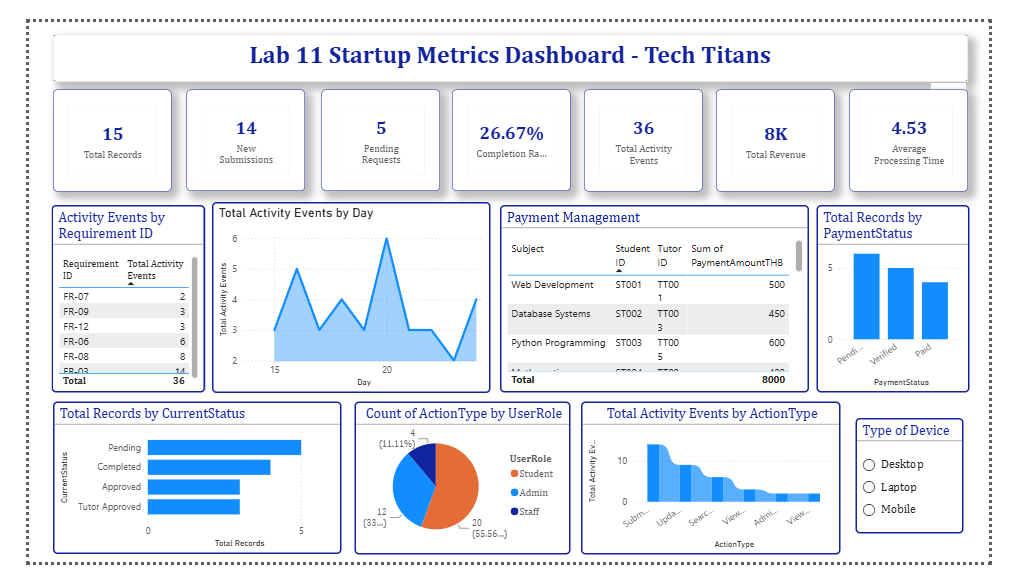

What the dashboard file says about the page in this screenshot:
{"tool":"powerbi","page":{"name":"Startup Metrics Dashboard","canvas":[1280,720],"ordinal":0},"visuals":[{"type":"textbox","box":[32,16,1220,64],"z":0},{"type":"cardVisual","fields":{"Data":["PrototypeRecords.Total Records"]},"box":[32.7,89.8,158,136],"z":1000},{"type":"cardVisual","fields":{"Data":["PrototypeRecords.New Submissions"]},"box":[210.7,89.3,158,135],"z":2000},{"type":"cardVisual","fields":{"Data":["PrototypeRecords.Pending Requests"]},"box":[390.7,89.3,158,135],"z":3000},{"type":"cardVisual","fields":{"Data":["PrototypeRecords.Completion Rate"]},"box":[564.7,89.3,158,135],"z":4000},{"type":"cardVisual","fields":{"Data":["PrototypeRecords.Total Activity Events"]},"box":[740.7,89.3,158,136],"z":5000},{"type":"cardVisual","fields":{"Data":["PrototypeRecords.Total Revenue"]},"box":[916.7,89.3,158,136],"z":6000},{"type":"cardVisual","fields":{"Data":["PrototypeRecords.Average Processing Time"]},"box":[1094.7,89.3,158,136],"z":7000},{"type":"clusteredBarChart","fields":{"Category":["PrototypeRecords.CurrentStatus"],"Y":["PrototypeRecords.Total Records"]},"box":[32.2,505.6,384.4,203.3],"z":8000},{"type":"clusteredColumnChart","fields":{"Category":["PrototypeRecords.PaymentStatus"],"Y":["PrototypeRecords.Total Records"]},"box":[1050,244,204,250],"z":9000},{"type":"ribbonChart","title":"Total Activity Events by ActionType","fields":{"Category":["ActivityLog.ActionType"],"Y":["PrototypeRecords.Total Activity Events"]},"box":[736,506,346,204],"z":10000},{"type":"pieChart","fields":{"Category":["ActivityLog.UserRole"],"Y":["CountNonNull(ActivityLog.ActionType)"]},"box":[434,506,288,204],"z":11000},{"type":"tableEx","title":"Activity Events by Requirement ID","fields":{"Values":["ActivityLog.RequirementID","PrototypeRecords.Total Activity Events"]},"box":[30,244.4,204.4,250],"z":12000},{"type":"stackedAreaChart","fields":{"Category":["ActivityLog.EventDateTime.Variation.Date Hierarchy.Day"],"Y":["PrototypeRecords.Total Activity Events"]},"box":[244.4,240,371.1,254.4],"z":13000},{"type":"listSlicer","title":"Type of Device","fields":{"Values":["ActivityLog.DeviceType"]},"box":[1102,528,144,154],"z":13001},{"type":"tableEx","title":"Payment Management ","fields":{"Values":["PrototypeRecords.Subject","PrototypeRecords.StudentID","PrototypeRecords.TutorID","Sum(PrototypeRecords.PaymentAmountTHB)"]},"box":[628,244,412,250],"z":13002}]}

Visuals, with their boxes in screenshot pixels (x1, y1, x2, y2), scaled from the page's 1280x720 canvas onto the 1017x582 screenshot:
textbox: bbox=(25, 13, 995, 65)
cardVisual - PrototypeRecords.Total Records: bbox=(26, 73, 152, 183)
cardVisual - PrototypeRecords.New Submissions: bbox=(167, 72, 293, 181)
cardVisual - PrototypeRecords.Pending Requests: bbox=(310, 72, 436, 181)
cardVisual - PrototypeRecords.Completion Rate: bbox=(449, 72, 574, 181)
cardVisual - PrototypeRecords.Total Activity Events: bbox=(589, 72, 714, 182)
cardVisual - PrototypeRecords.Total Revenue: bbox=(728, 72, 854, 182)
cardVisual - PrototypeRecords.Average Processing Time: bbox=(870, 72, 995, 182)
clusteredBarChart - PrototypeRecords.CurrentStatus x PrototypeRecords.Total Records: bbox=(26, 409, 331, 573)
clusteredColumnChart - PrototypeRecords.PaymentStatus x PrototypeRecords.Total Records: bbox=(834, 197, 996, 399)
"Total Activity Events by ActionType" ribbonChart: bbox=(585, 409, 860, 574)
pieChart - ActivityLog.UserRole x CountNonNull(ActivityLog.ActionType): bbox=(345, 409, 574, 574)
"Activity Events by Requirement ID" tableEx: bbox=(24, 198, 186, 400)
stackedAreaChart - ActivityLog.EventDateTime.Variation.Date Hierarchy.Day x PrototypeRecords.Total Activity Events: bbox=(194, 194, 489, 400)
"Type of Device" listSlicer: bbox=(876, 427, 990, 551)
"Payment Management " tableEx: bbox=(499, 197, 826, 399)
